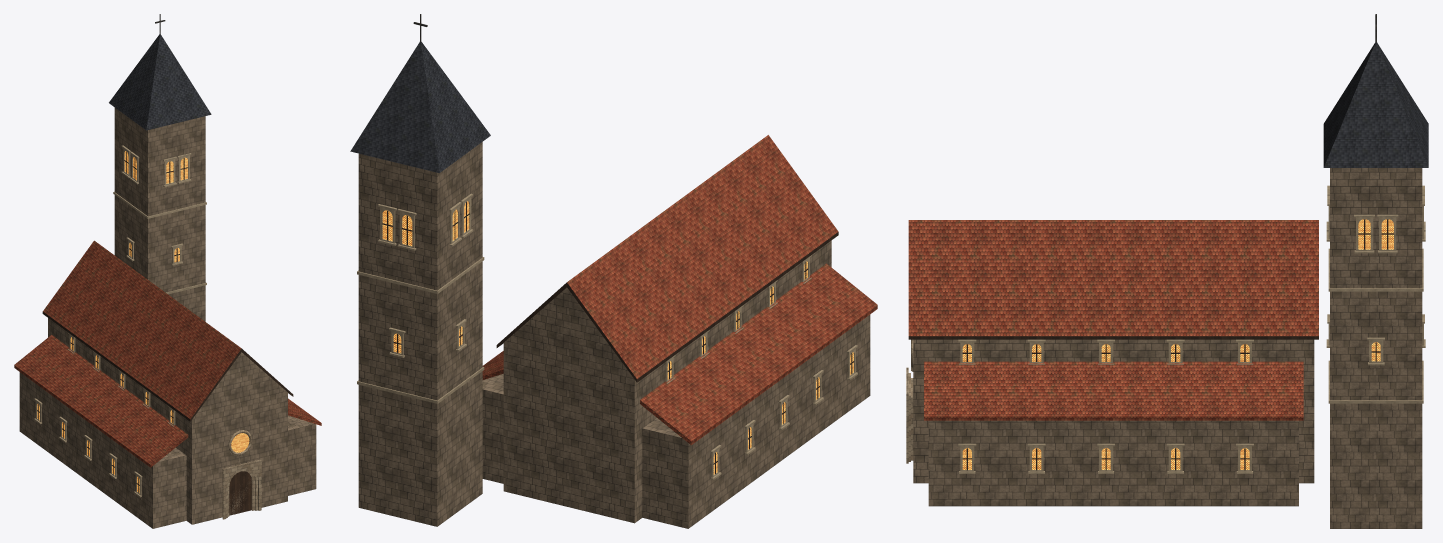
Rendered from basilica.gltf.
3 renders of one model, left to right at view 1: azimuth 30°, elevation 25°; view 2: azimuth 150°, elevation 25°; view 3: azimuth 270°, elevation 25°, orthographic. The views are drawn at different scales.
Parts seen in each view (by area): view 1: basilica_mesh; view 2: basilica_mesh; view 3: basilica_mesh.
Part boxes in pixels (<box>): basilica_mesh: <box>14,14,321,528</box>; basilica_mesh: <box>350,14,877,528</box>; basilica_mesh: <box>906,14,1428,528</box>.
Size of what is drawn, in the model's own units: 21.3 by 35.4 by 33.85.
Materials: 9 (9 with a texture image).
